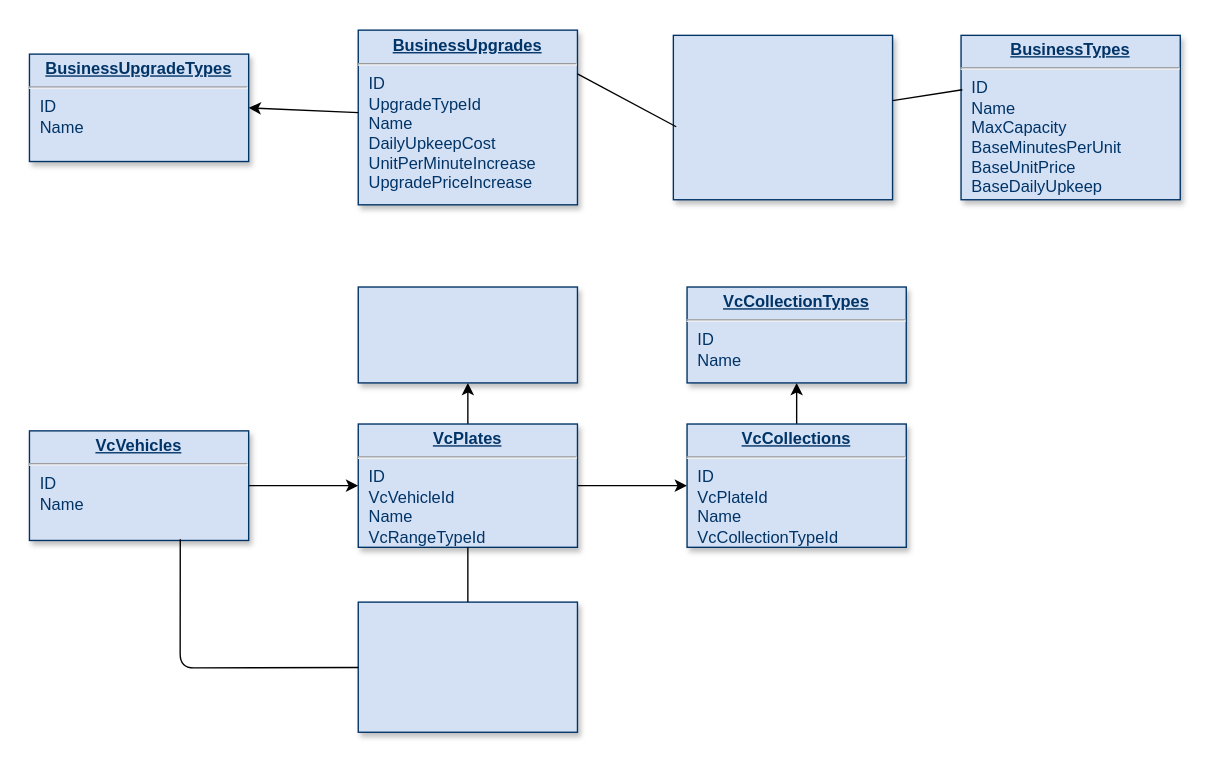
The diagram is 1212 pixels wide and 766 high, and some of its shapes have lost their labels. Each missing label, with the centre of its shape:
"BusinessTypeMembers ID BusinessTypeId BusinessUpgradeId" belongs at point 784,118.
"UserVcVehicles ID UserId VcVehicleId VcPlateId" belongs at point 468,668.
"VcRangeTypes ID Name" belongs at point 468,336.
